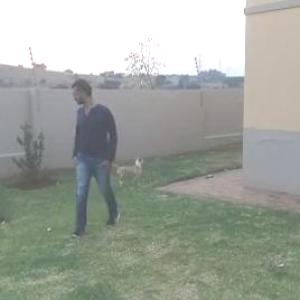follow: (71, 74, 122, 232)
